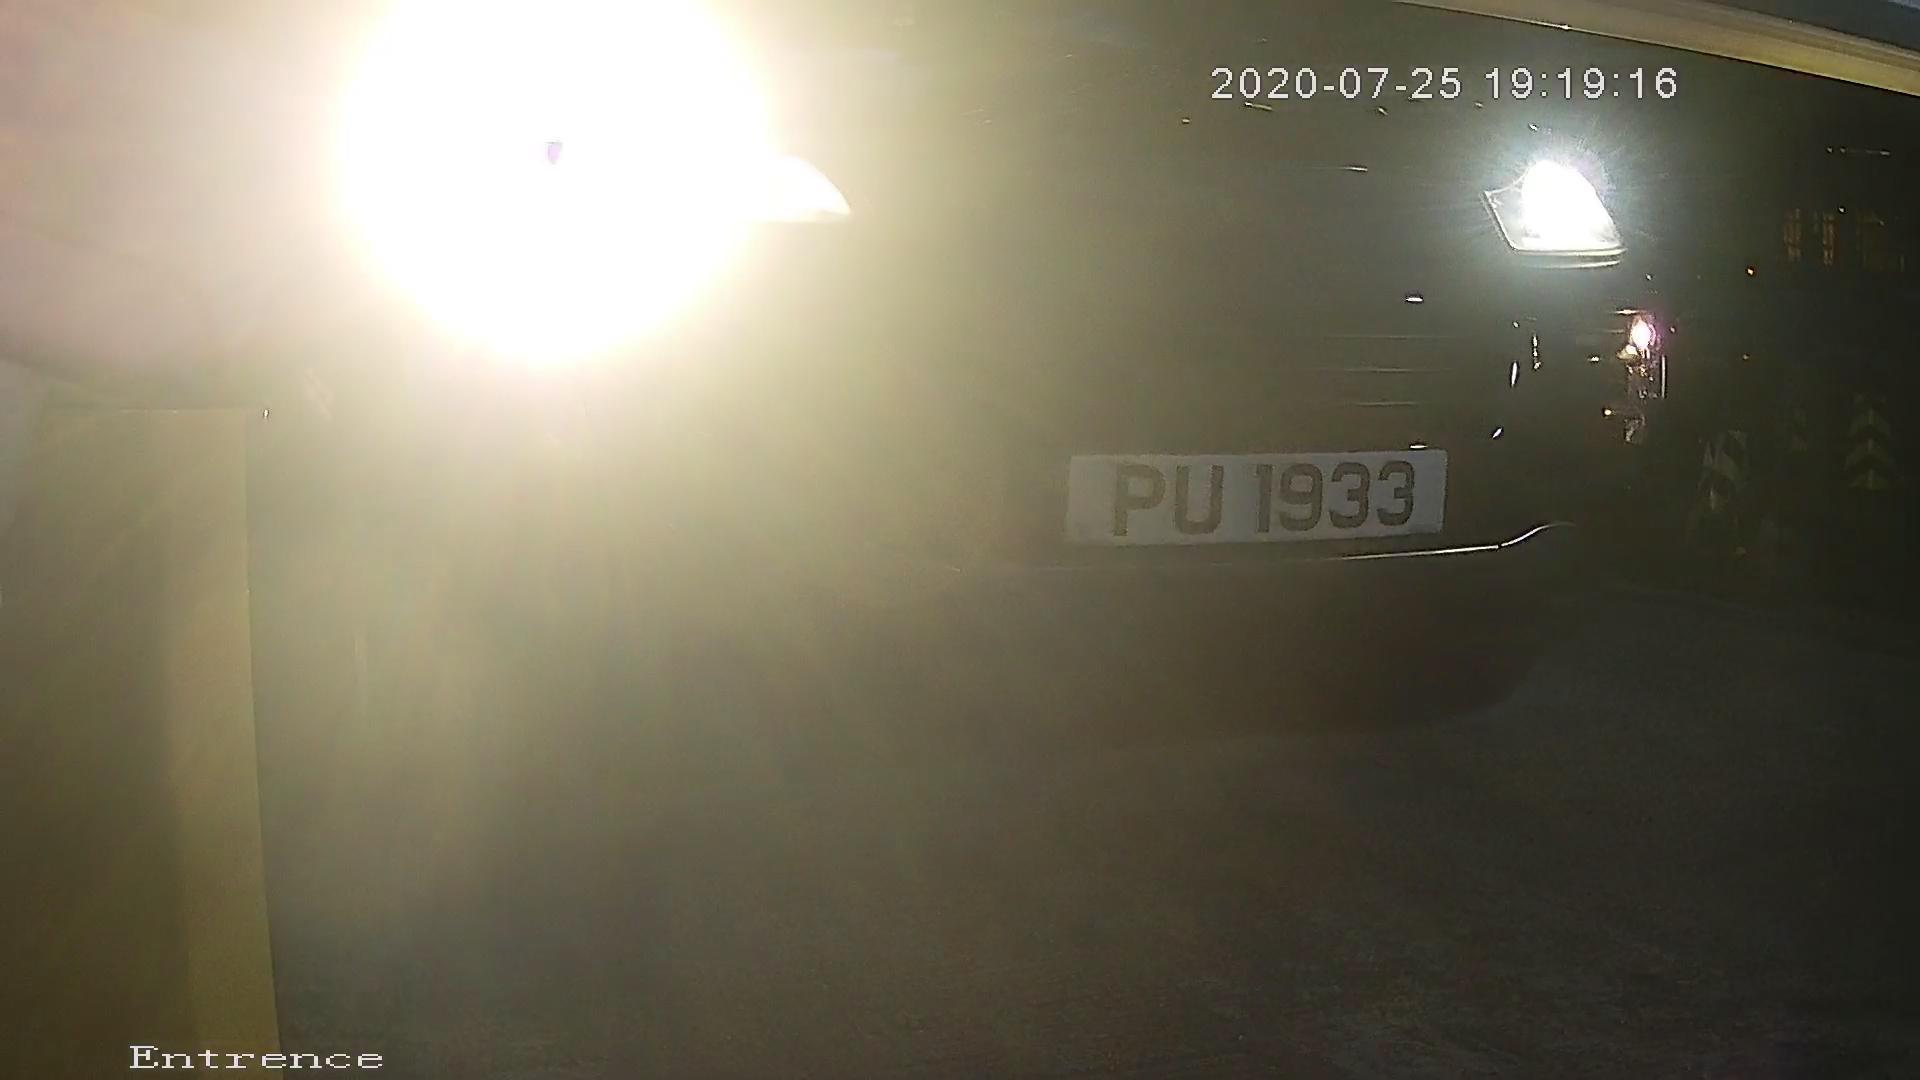privatecar: (313, 3, 1697, 740)
